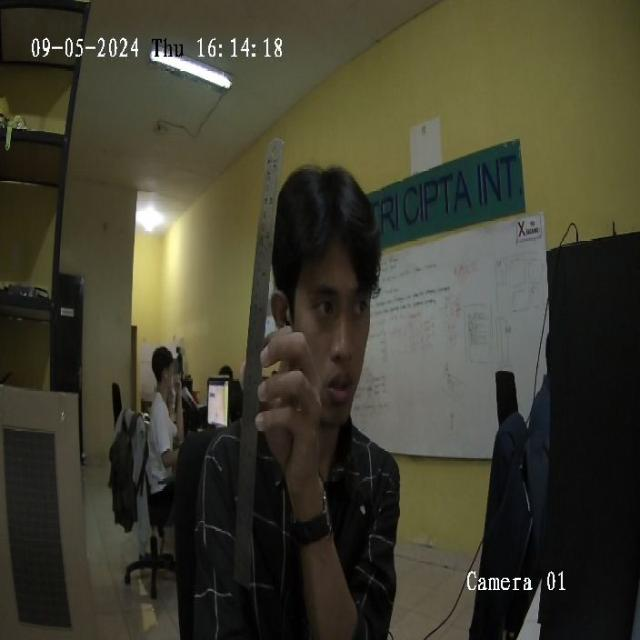Ruler: (235, 139, 282, 583)
